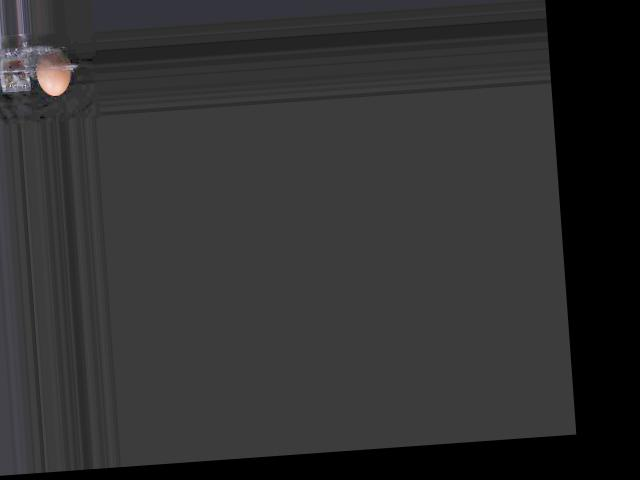egg: (35, 49, 73, 96)
